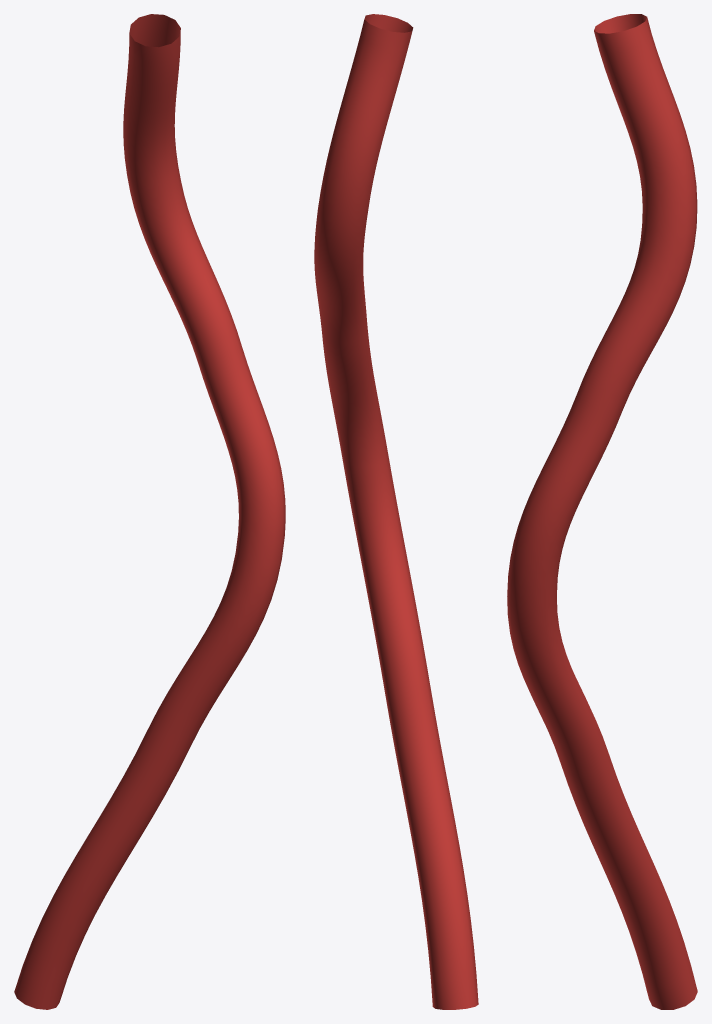
3 views of the same model, side by side, from view 1: azimuth 30°, elevation 25°; view 2: azimuth 150°, elevation 25°; view 3: azimuth 270°, elevation 25° (orthographic). The views are drawn at different scales.
Visible parts, largest first — view 1: 左侧足底内侧动脉; view 2: 左侧足底内侧动脉; view 3: 左侧足底内侧动脉.
Part boxes in pixels (box(x1,y1,x2,y2)): 左侧足底内侧动脉: box(14, 14, 285, 1009); 左侧足底内侧动脉: box(314, 14, 478, 1009); 左侧足底内侧动脉: box(507, 14, 697, 1009).
Bounding box in the file's own units: 0.0132 × 0.0607 × 0.0102.
